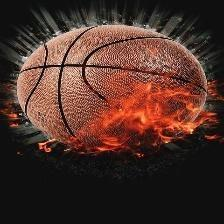Sports-Ball: (15, 22, 208, 161)
